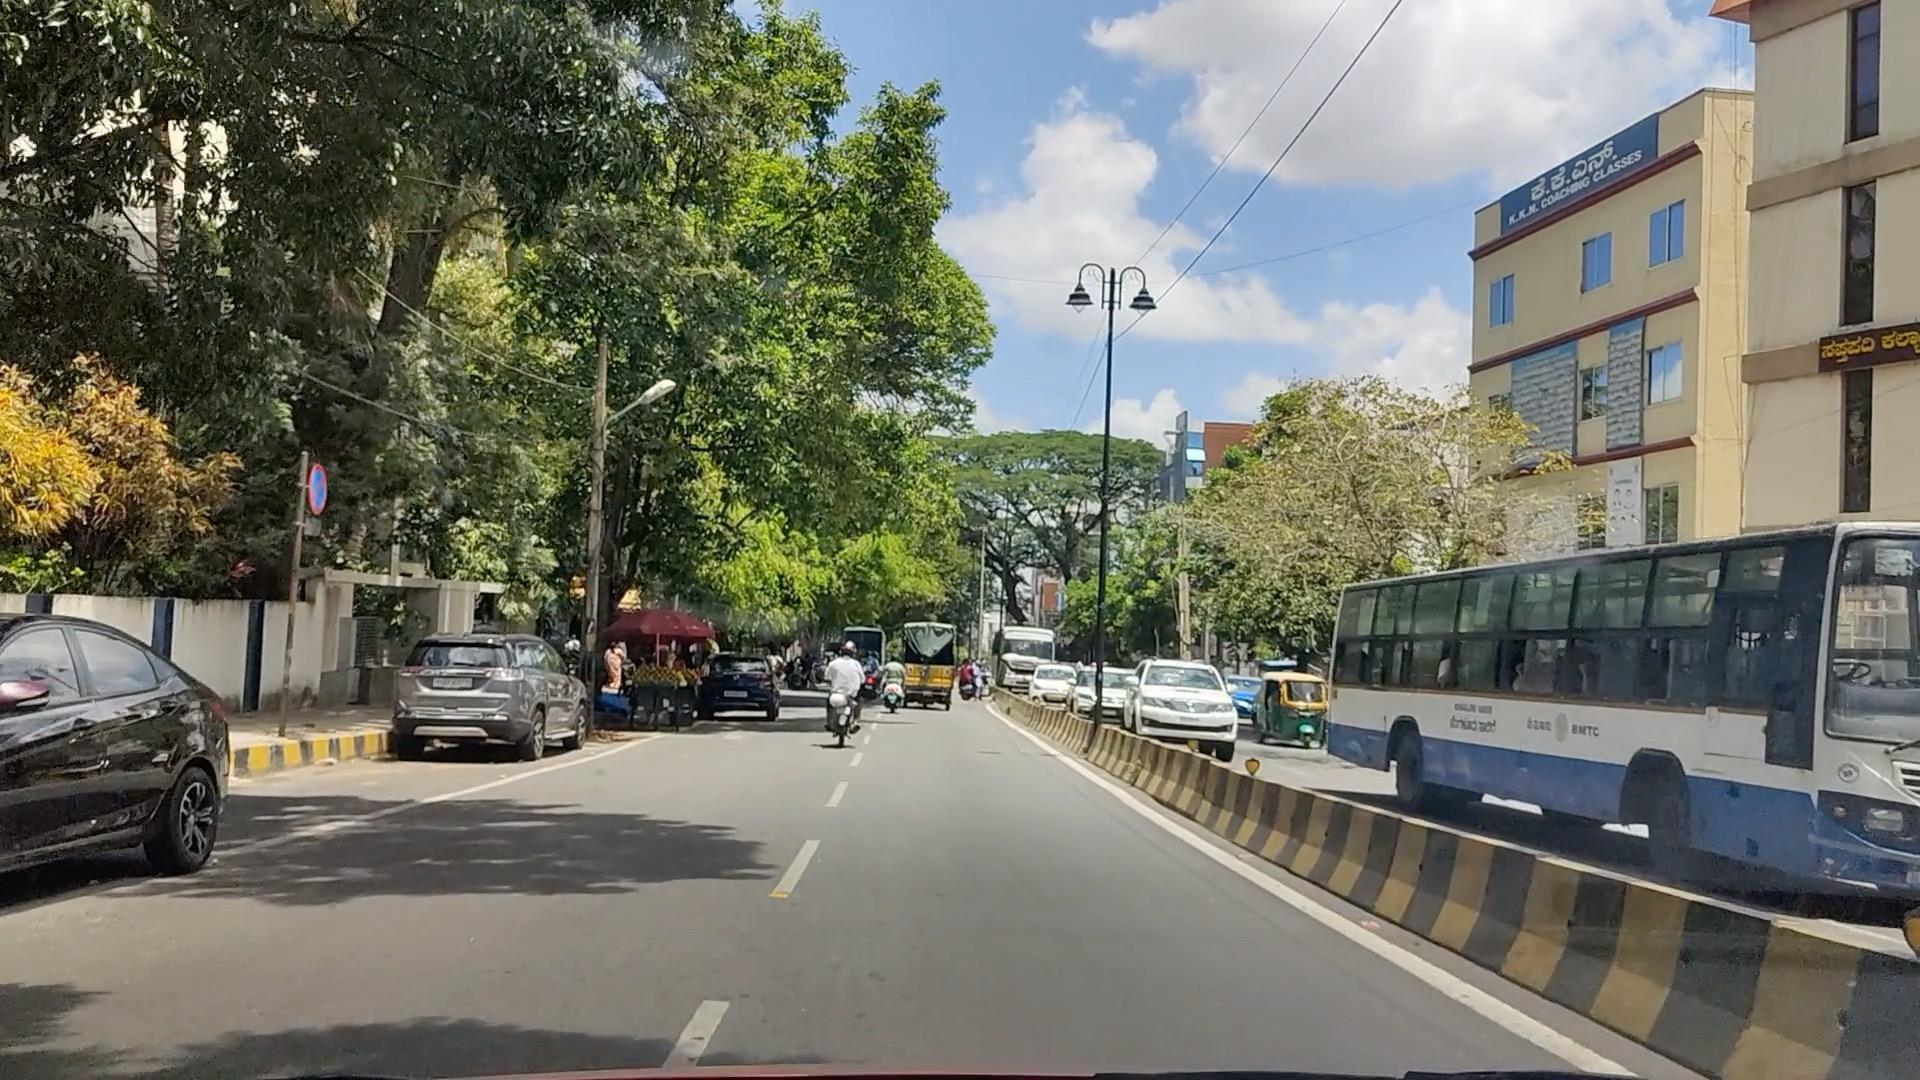LMV: (406, 633, 537, 780), (820, 637, 867, 748)
